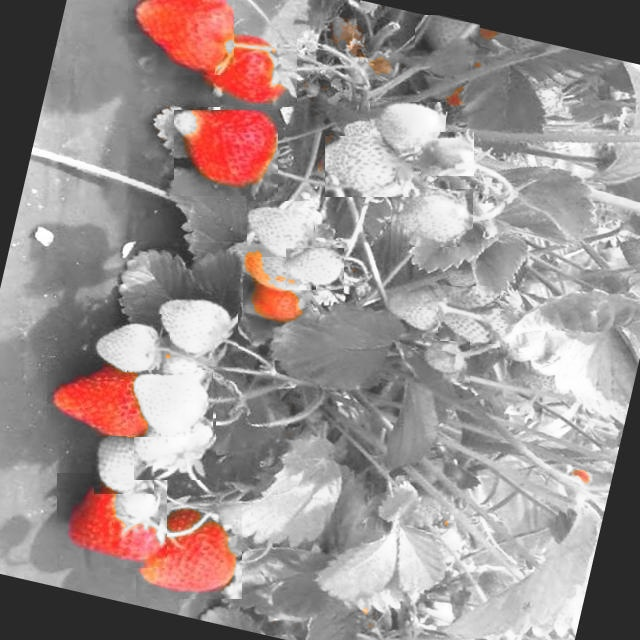ripe: (57, 473, 167, 568), (136, 502, 242, 598), (47, 356, 162, 444), (174, 110, 278, 196), (128, 0, 234, 75), (196, 29, 297, 107), (244, 280, 314, 332)
unripe: (145, 291, 238, 367), (127, 370, 213, 437), (134, 410, 216, 480), (86, 314, 170, 381), (326, 136, 412, 197), (391, 189, 473, 247), (370, 102, 446, 163), (248, 201, 316, 257), (438, 286, 500, 344), (94, 436, 154, 494), (385, 282, 444, 332), (286, 248, 344, 290), (414, 340, 470, 382), (421, 132, 474, 176), (415, 15, 480, 50)
